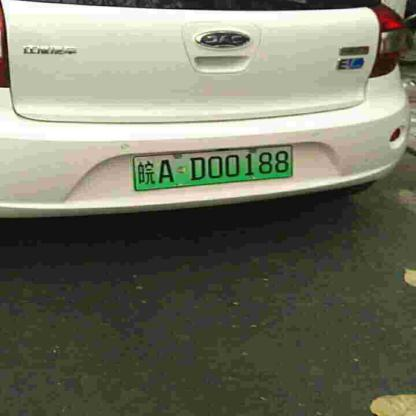lp: (133, 145, 295, 190)
